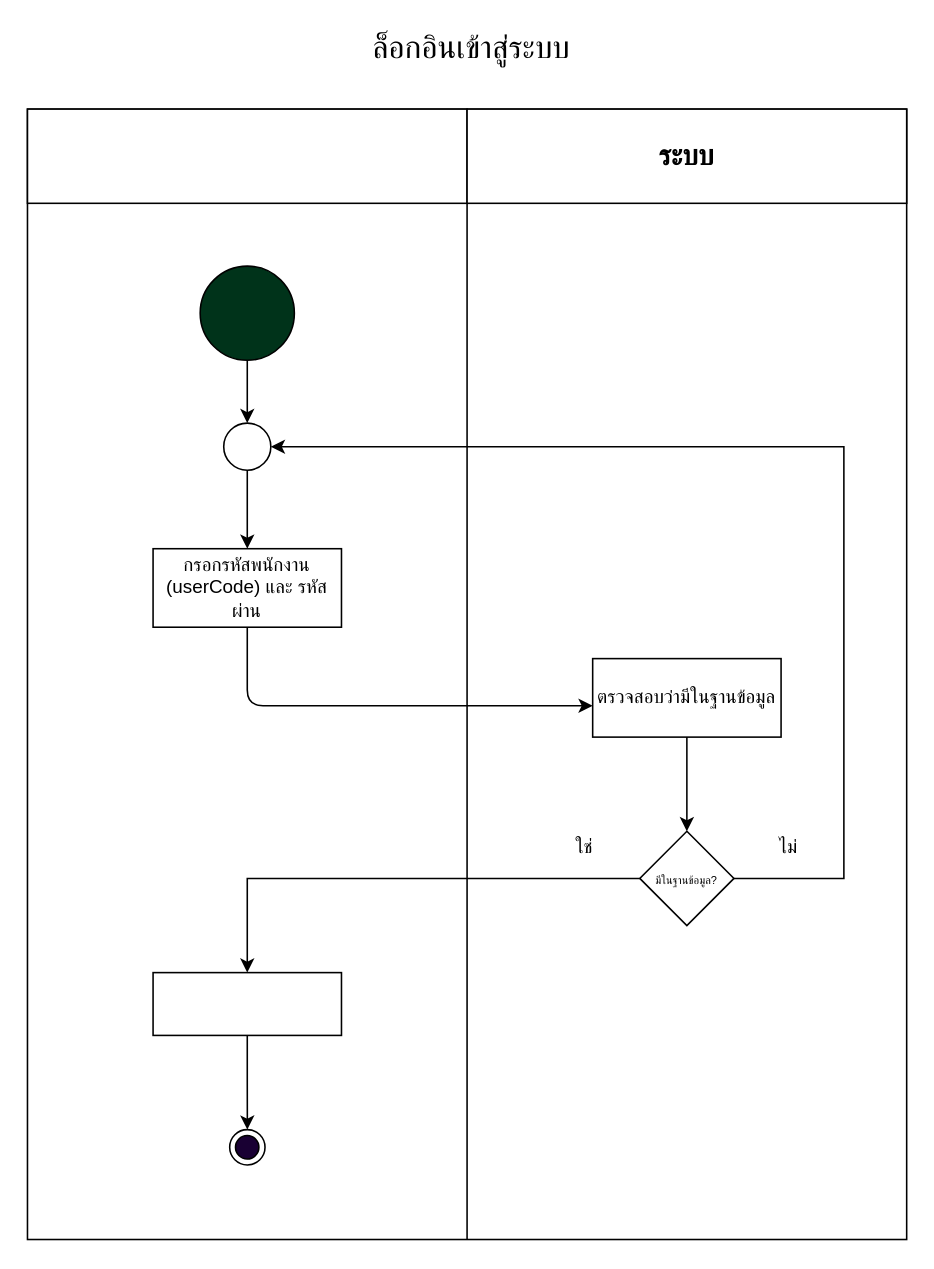
Image size: 934x1269. Some labels were removed from this diagram. Here are the shapes that lost their labels. From the top down, the centre of each, then its label:
point (246, 155): ผู้ใช้งาน
point (246, 1003): ล็อกอินเข้าสู่หน้า Calendar
